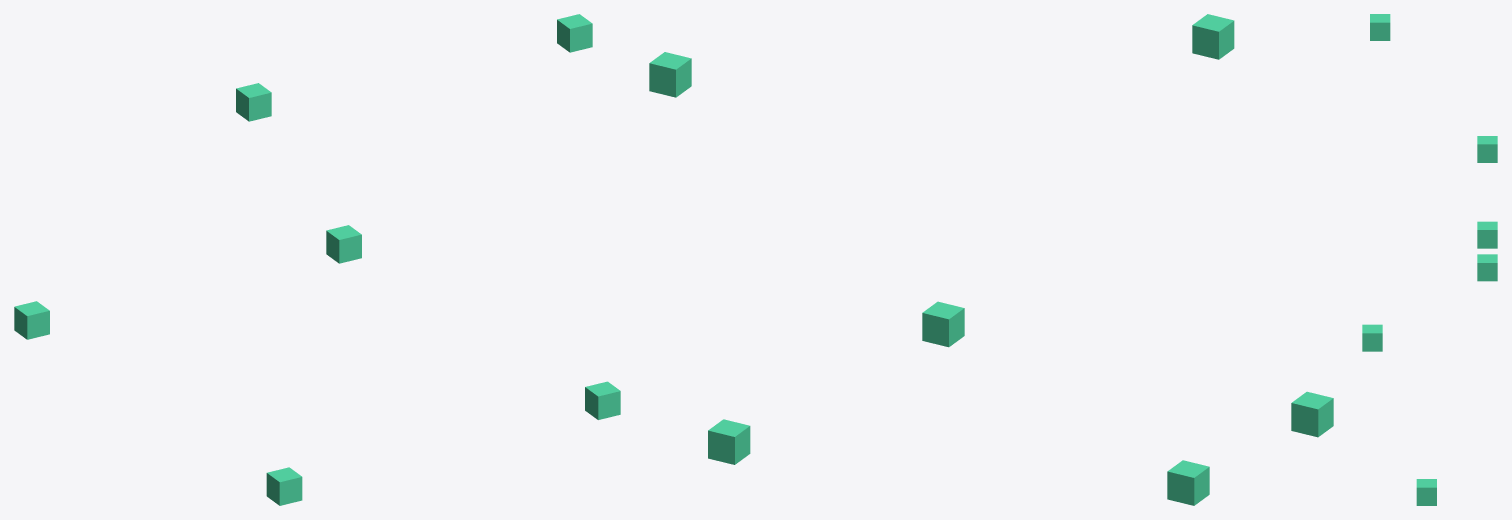
The model's file is cubes_combined.fbx.
The picture shows the model from 3 angles, left to right: view 1: azimuth 30°, elevation 25°; view 2: azimuth 150°, elevation 25°; view 3: azimuth 270°, elevation 25°; orthographic projection. The views are drawn at different scales.
Parts seen in each view (by area): view 1: Cube; view 2: Cube; view 3: Cube.
Part boxes in pixels (x1,y1,x2,y2): Cube: (14,14,620,505); Cube: (649,14,1333,505); Cube: (1362,14,1497,505).
Size of the model in its own units: 5001 by 3691 by 1332.
